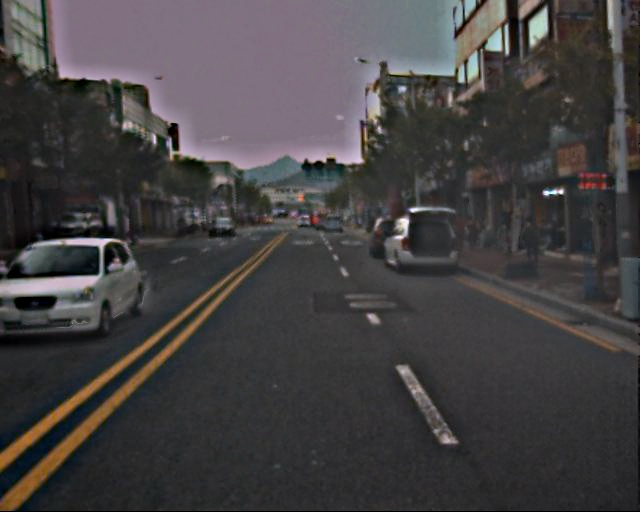person: (520, 214, 545, 276), (451, 211, 467, 249), (466, 216, 480, 249)
